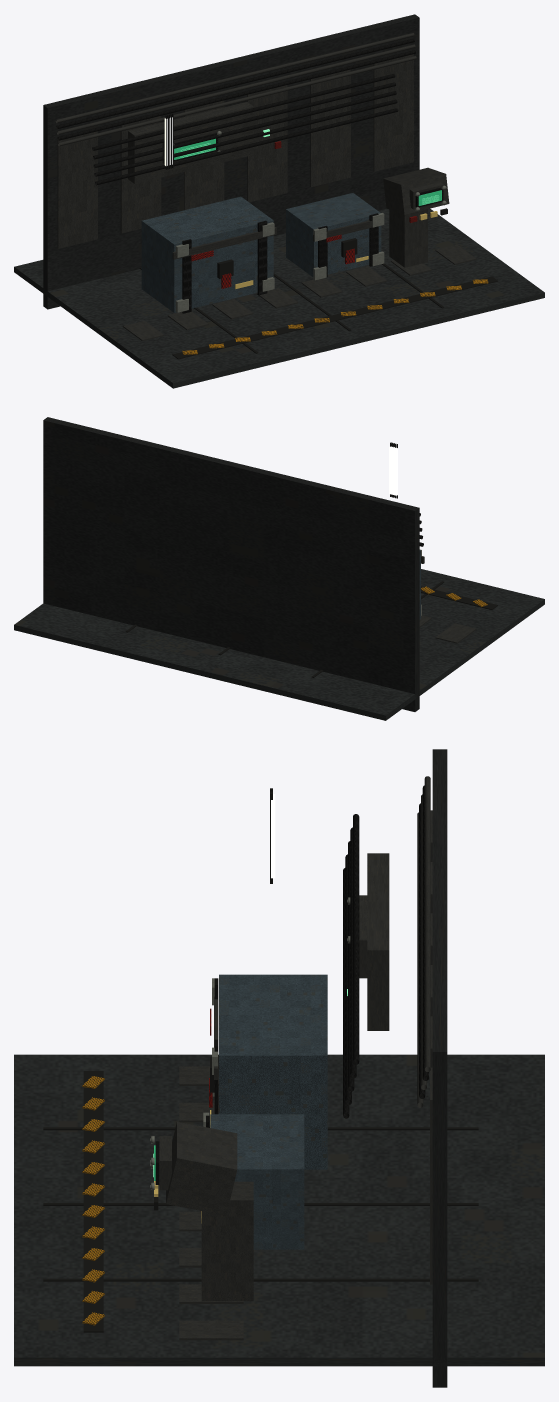
The model's file is GLB_05_cargo_hold_props_and_terminal.glb.
3 views of the same model, one above another, from view 1: azimuth 30°, elevation 25°; view 2: azimuth 150°, elevation 25°; view 3: azimuth 270°, elevation 25° (orthographic). The views are drawn at different scales.
Visible parts, largest first — view 1: cargo_hold_oily_diamond_floor_base, cargo_hold_rear_blackened_wall, cargo_hold_large_strapped_crate_main_blue_gray_body, cargo_hold_secondary_gray_crate_main_blue_gray_body, cargo_hold_rear_panel_0, cargo_hold_rear_panel_5, cargo_hold_wall_status_panel_body, cargo_hold_rear_panel_4, cargo_hold_rear_panel_3, cargo_hold_rear_panel_1, cargo_hold_pedestal_column, cargo_hold_rear_panel_2 (+22 smaller); view 2: cargo_hold_rear_blackened_wall, cargo_hold_oily_diamond_floor_base, cargo_hold_raised_floor_panel_0, cargo_hold_long_wall_light_warm_cage, cargo_hold_black_recessed_hazard_strip; view 3: cargo_hold_oily_diamond_floor_base, cargo_hold_large_strapped_crate_main_blue_gray_body, cargo_hold_rear_blackened_wall, cargo_hold_secondary_gray_crate_main_blue_gray_body, cargo_hold_pedestal_column, cargo_hold_pedestal_sloped_head, cargo_hold_wall_status_panel_body, cargo_hold_black_recessed_hazard_strip, cargo_hold_overhead_pipe_0, cargo_hold_wall_pipe_bundle_0, cargo_hold_floor_trench_1.4, cargo_hold_raised_floor_panel_7 (+8 smaller).
Boxes of the visible parts, left/top/right/bottom form: cargo_hold_oily_diamond_floor_base: left=14, top=208, right=544, bottom=388; cargo_hold_rear_blackened_wall: left=43, top=14, right=419, bottom=309; cargo_hold_large_strapped_crate_main_blue_gray_body: left=141, top=196, right=273, bottom=312; cargo_hold_secondary_gray_crate_main_blue_gray_body: left=286, top=193, right=381, bottom=276; cargo_hold_rear_panel_0: left=57, top=131, right=97, bottom=248; cargo_hold_rear_panel_5: left=373, top=54, right=413, bottom=171; cargo_hold_wall_status_panel_body: left=128, top=102, right=253, bottom=183; cargo_hold_rear_panel_4: left=310, top=69, right=350, bottom=187; cargo_hold_rear_panel_3: left=247, top=85, right=287, bottom=202; cargo_hold_rear_panel_1: left=120, top=116, right=161, bottom=233; cargo_hold_pedestal_column: left=389, top=209, right=427, bottom=267; cargo_hold_rear_panel_2: left=184, top=100, right=224, bottom=210; cargo_hold_rear_blackened_wall: left=43, top=417, right=419, bottom=711; cargo_hold_oily_diamond_floor_base: left=14, top=569, right=544, bottom=720; cargo_hold_raised_floor_panel_0: left=435, top=623, right=476, bottom=643; cargo_hold_long_wall_light_warm_cage: left=389, top=446, right=397, bottom=495; cargo_hold_black_recessed_hazard_strip: left=421, top=586, right=497, bottom=609; cargo_hold_oily_diamond_floor_base: left=14, top=1054, right=544, bottom=1366; cargo_hold_large_strapped_crate_main_blue_gray_body: left=219, top=974, right=327, bottom=1169; cargo_hold_rear_blackened_wall: left=432, top=749, right=447, bottom=1387; cargo_hold_secondary_gray_crate_main_blue_gray_body: left=210, top=1114, right=304, bottom=1249; cargo_hold_pedestal_column: left=201, top=1181, right=253, bottom=1301; cargo_hold_pedestal_sloped_head: left=166, top=1121, right=237, bottom=1215; cargo_hold_wall_status_panel_body: left=367, top=853, right=389, bottom=1030; cargo_hold_black_recessed_hazard_strip: left=83, top=1071, right=103, bottom=1332; cargo_hold_overhead_pipe_0: left=424, top=776, right=430, bottom=1071; cargo_hold_wall_pipe_bundle_0: left=353, top=814, right=359, bottom=1064; cargo_hold_floor_trench_1.4: left=43, top=1278, right=478, bottom=1281; cargo_hold_raised_floor_panel_7: left=179, top=1320, right=243, bottom=1340.
Size of the model in its own units: 5.8 by 3.16 by 4.3.
Materials: 13 (9 with a texture image).
